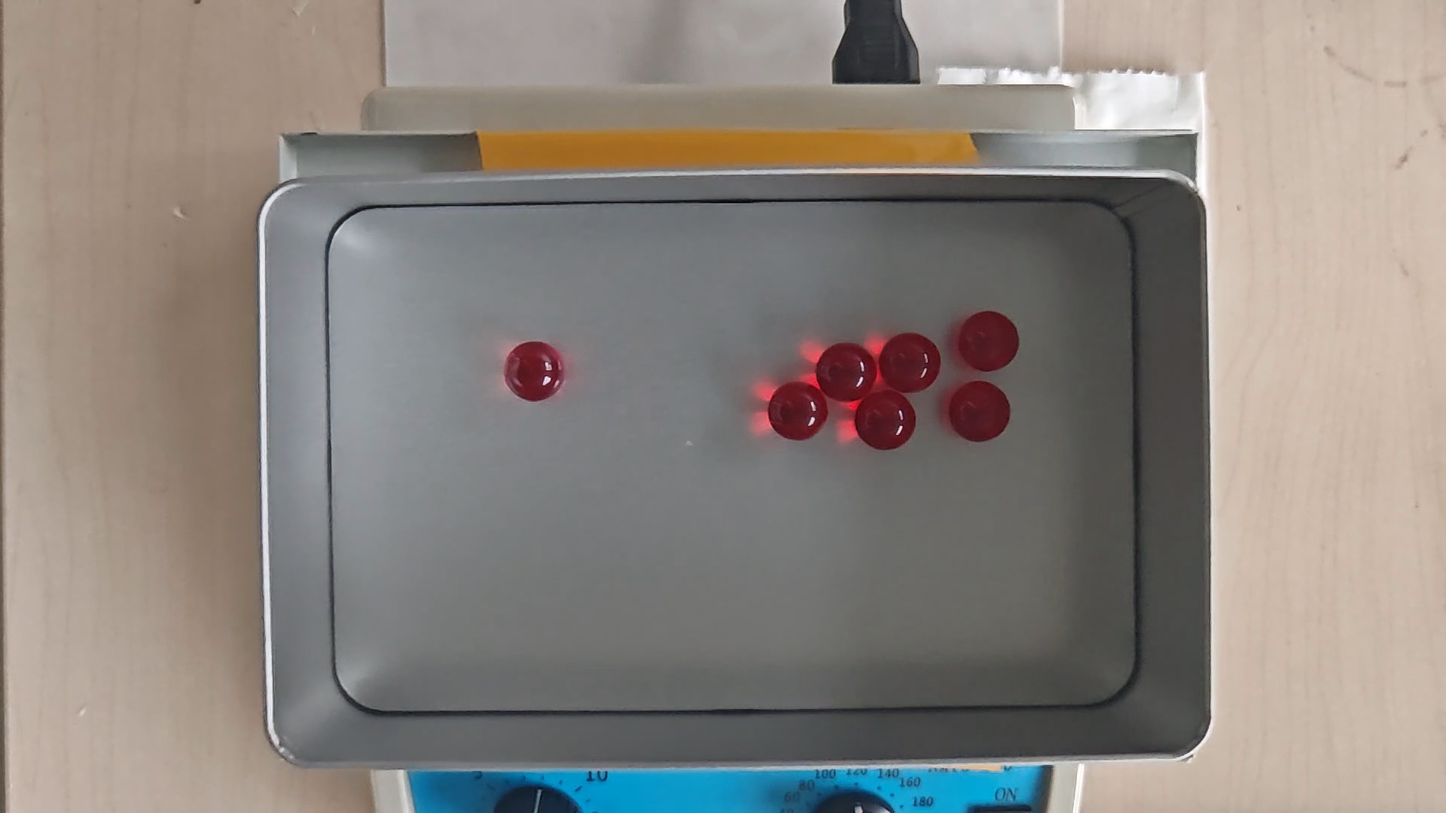ball: (959, 310, 1020, 371), (949, 381, 1010, 442), (879, 332, 939, 392), (817, 343, 877, 402), (507, 340, 564, 402), (770, 380, 827, 440), (859, 391, 914, 449)
container: (329, 200, 1136, 711)
